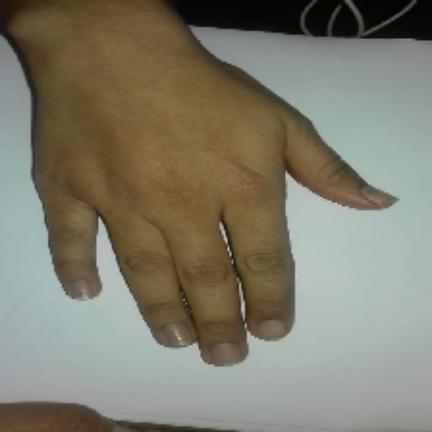Nail: (360, 185, 398, 208), (163, 322, 194, 348), (211, 344, 242, 366), (256, 320, 287, 340), (69, 279, 92, 300)
